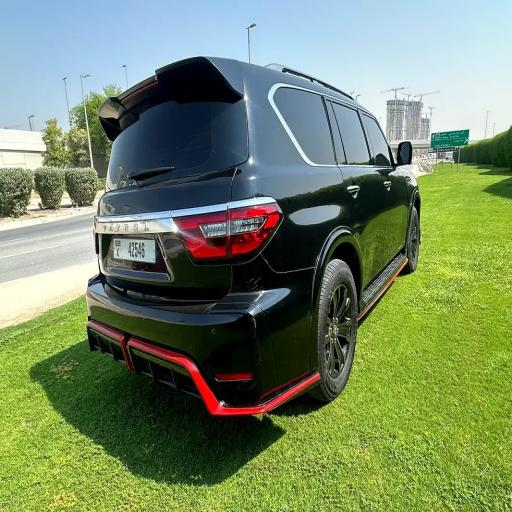license-plates: (113, 238, 155, 263)
